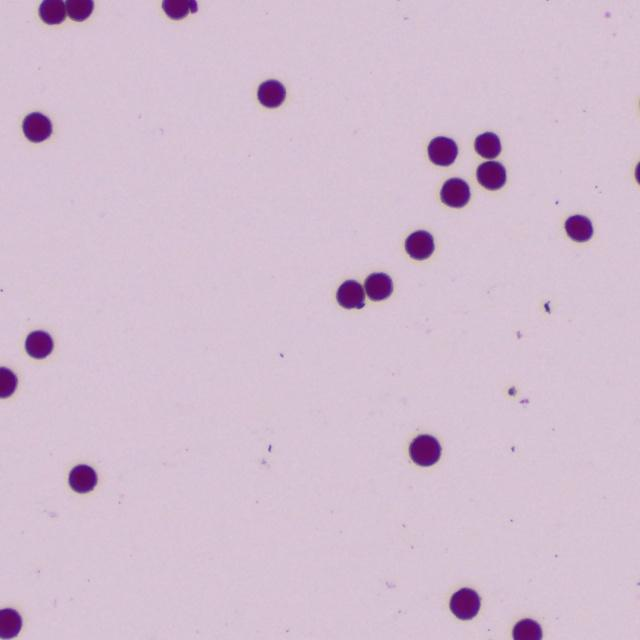viable: (450, 588, 479, 619), (427, 136, 457, 165), (410, 435, 439, 465), (405, 230, 434, 259), (23, 112, 51, 142), (477, 160, 505, 189), (441, 178, 469, 207), (257, 79, 285, 107), (25, 330, 53, 358), (336, 281, 364, 308), (69, 464, 96, 492), (565, 214, 592, 241), (365, 273, 392, 299), (474, 132, 500, 158), (39, 0, 65, 24), (513, 618, 542, 639), (0, 608, 21, 637), (66, 0, 93, 21), (0, 367, 17, 397), (162, 0, 189, 18), (634, 162, 639, 183), (189, 0, 197, 12)
